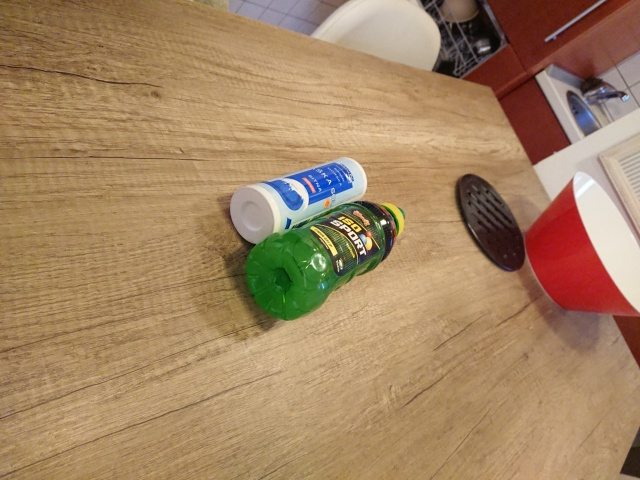Solana Pag Fine Sea Salt 250g: (227, 155, 370, 246)
Vindi Iso Sport Lemon-Grapefruit 500mL: (242, 198, 408, 324)
